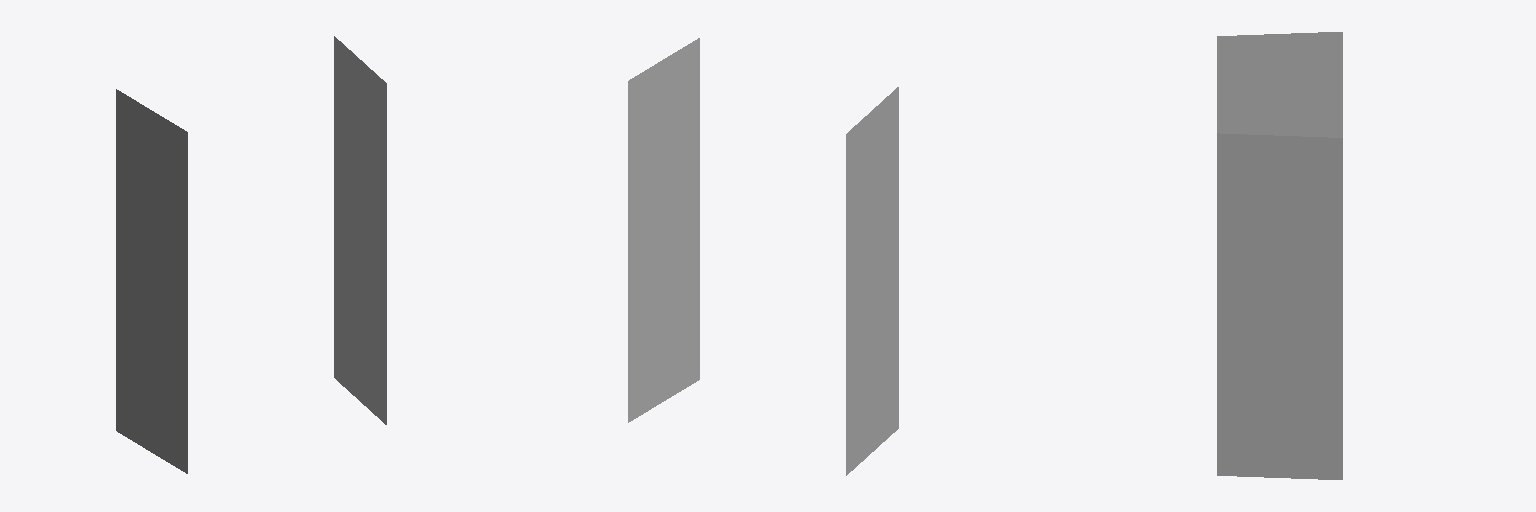
File: vidro2x3_porta_opened.obj
The picture shows the model from 3 angles: view 1: azimuth 30°, elevation 25°; view 2: azimuth 150°, elevation 25°; view 3: azimuth 270°, elevation 25°; orthographic projection.
Visible parts, largest first — view 1: portaL, portaR; view 2: portaR, portaL; view 3: portaR, portaL.
Part boxes in pixels (x1,y1,x2,y2): portaL: (116, 89, 187, 473); portaR: (334, 36, 386, 424); portaR: (628, 38, 699, 422); portaL: (846, 87, 898, 475); portaR: (1217, 133, 1342, 479); portaL: (1217, 32, 1342, 137).
Size of the model in its own units: 2 by 3 by 0.9962.